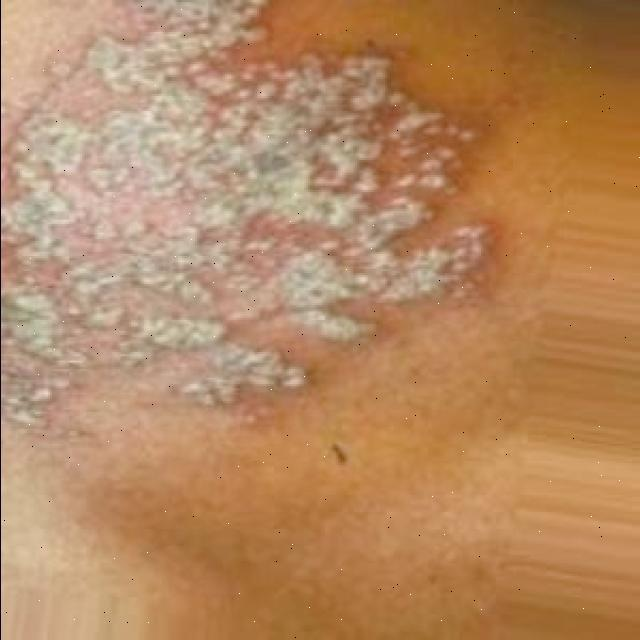Shingles: (0, 0, 491, 437)
